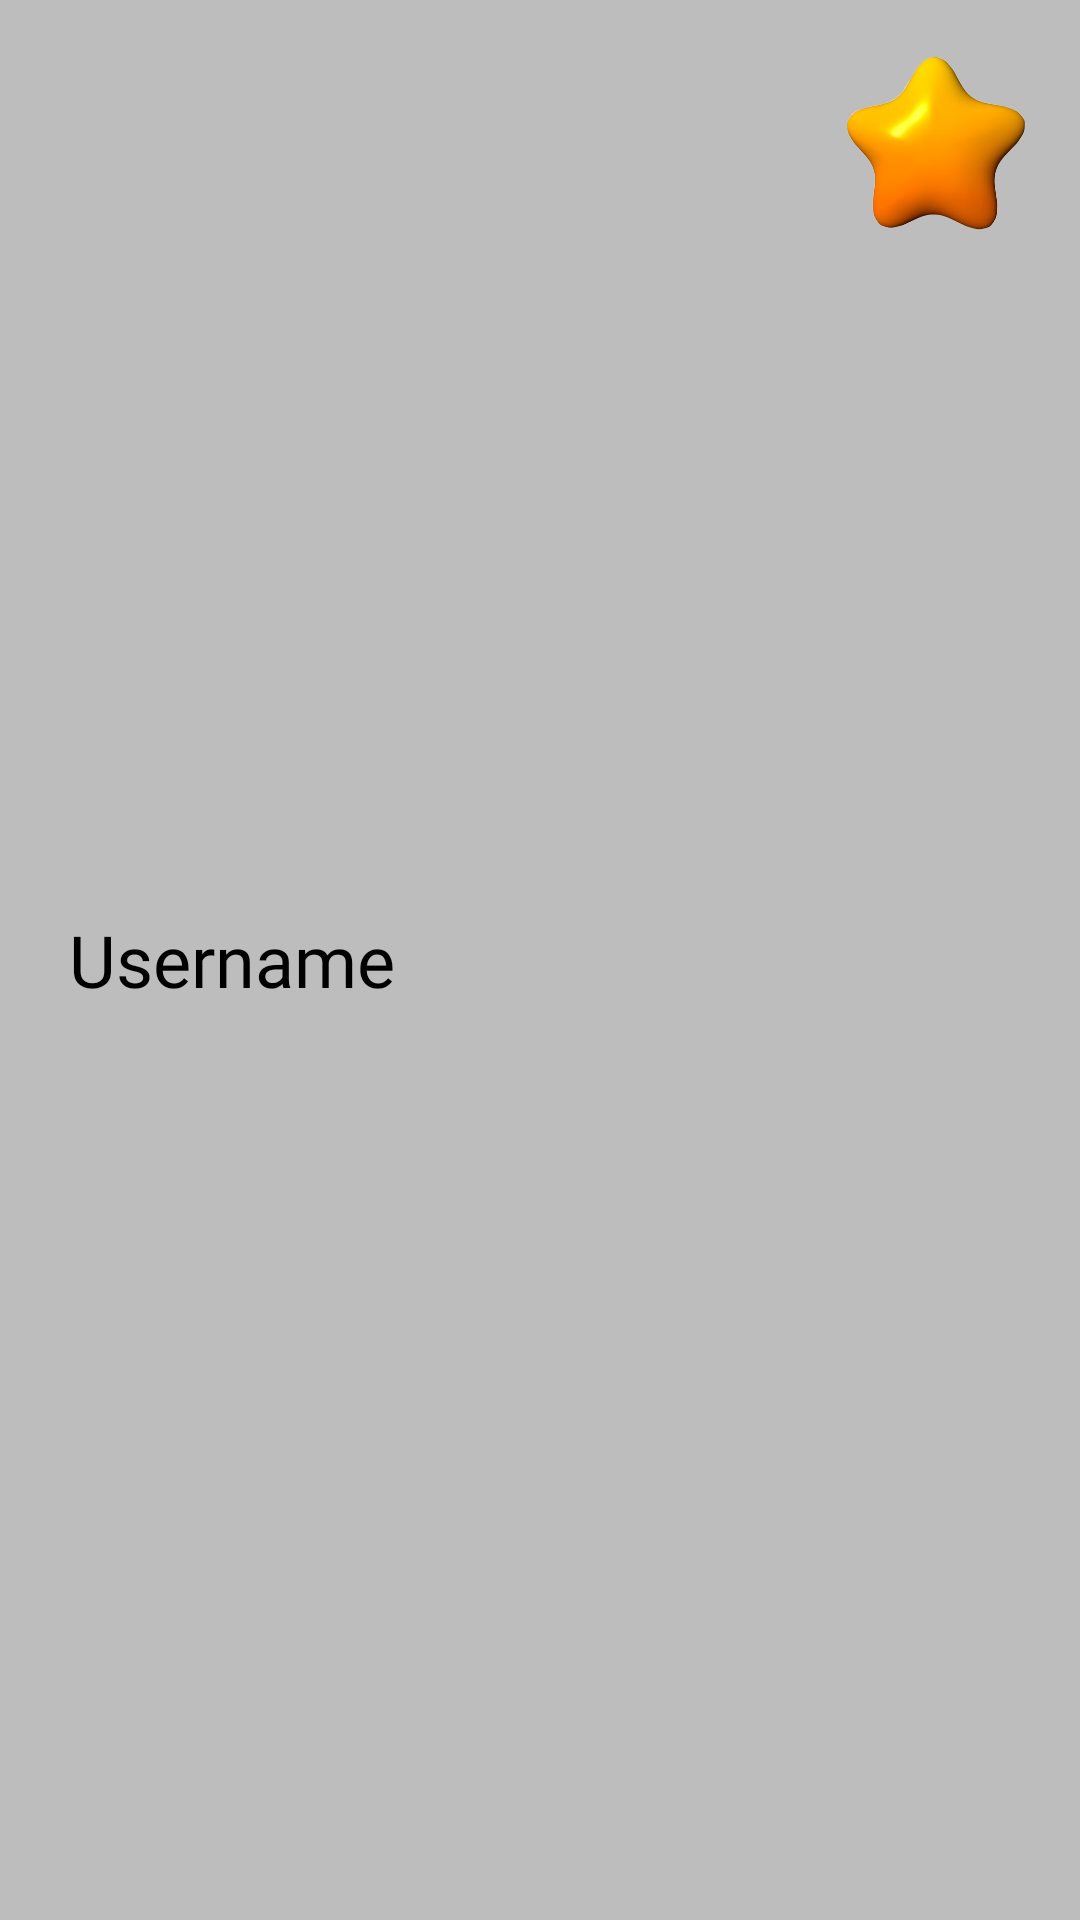

Screen size 1080×1920. Icon name, then its center in pixels as (x=x, y=y):
star: (x=936, y=143)
